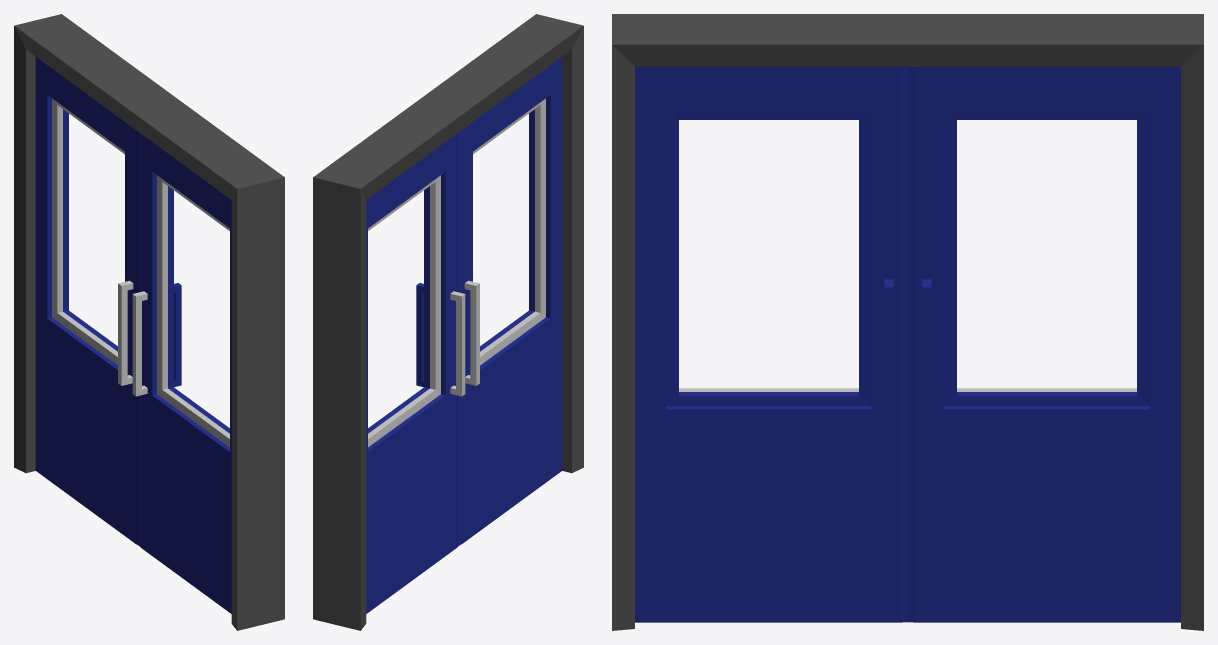
Rendered from door.glb.
3 renders of one model, left to right at view 1: azimuth 30°, elevation 25°; view 2: azimuth 150°, elevation 25°; view 3: azimuth 270°, elevation 25°, orthographic. The views are drawn at different scales.
Visible parts, largest first — view 1: DoorMesh, RightDoorMesh, LeftDoorMesh; view 2: DoorMesh, LeftDoorMesh, RightDoorMesh; view 3: LeftDoorMesh, RightDoorMesh, DoorMesh.
Part boxes in pixels (x1,y1,x2,y2): DoorMesh: [14, 14, 284, 630]; RightDoorMesh: [35, 57, 139, 545]; LeftDoorMesh: [132, 133, 231, 613]; DoorMesh: [313, 14, 583, 630]; LeftDoorMesh: [458, 57, 562, 545]; RightDoorMesh: [366, 133, 465, 613]; LeftDoorMesh: [635, 67, 907, 622]; RightDoorMesh: [908, 67, 1180, 622]; DoorMesh: [612, 14, 1203, 630].
Bounding box in the file's own units: 0.2463 × 2.19 × 2.
